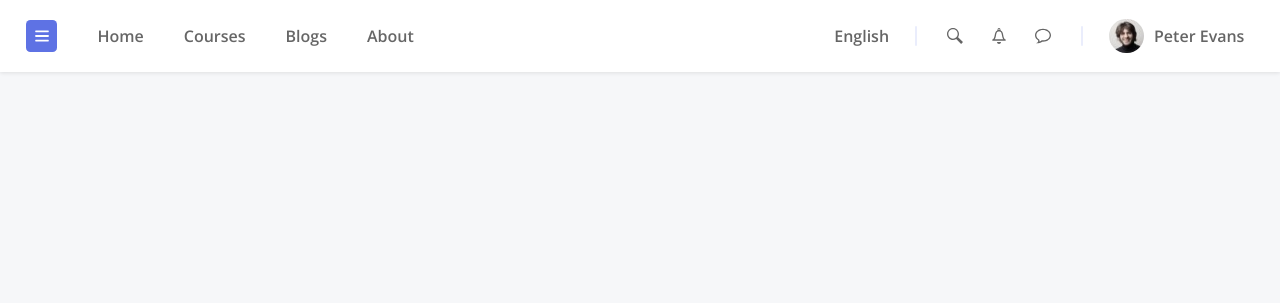
Test: Dropdowns › Profile dropdown opens and closes on button click
// Click profile button and expect profile dropdown to appear
Click the element with test id "profile-button".
click(1177, 36)  # box [1099,14,1254,58]
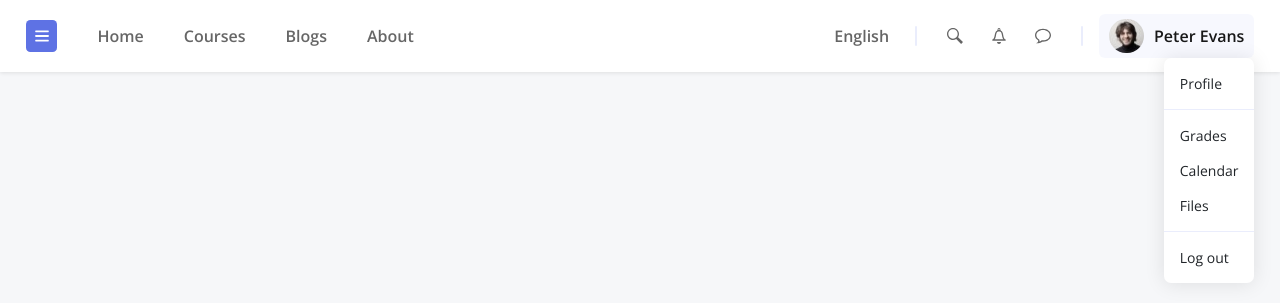
Now the element with test id "profile-dropdown" is shown, box [1164,58,1254,283]
// Click profile button and expect profile dropdown to disappear
Click the element with test id "profile-button".
click(1177, 36)  # box [1099,14,1254,58]
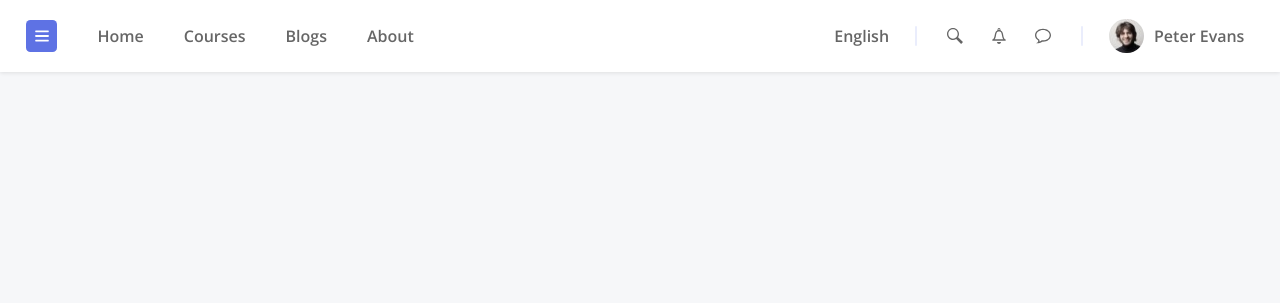
Now the element with test id "profile-dropdown" is gone
